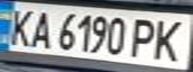0: (106, 14, 130, 56)
1: (72, 11, 93, 52)
6: (51, 10, 78, 52)
9: (90, 12, 112, 54)
A: (24, 7, 57, 50)
K: (148, 16, 190, 63), (0, 6, 39, 47)
P: (127, 15, 163, 60)
